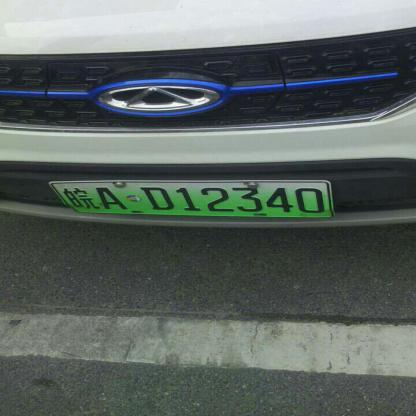lp: (50, 181, 77, 217)
